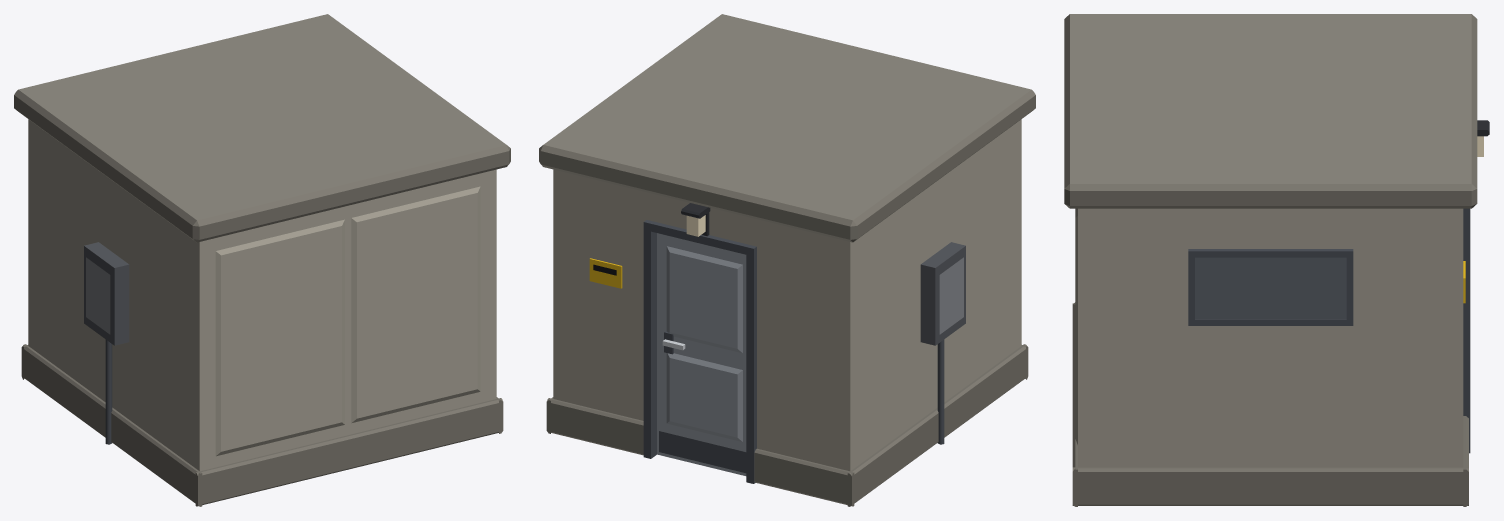
Rendered from roof_stairhut.glb.
3 views of the same model, side by side, from view 1: azimuth 30°, elevation 25°; view 2: azimuth 150°, elevation 25°; view 3: azimuth 270°, elevation 25° (orthographic). The views are drawn at different scales.
Parts seen in each view (by area): view 1: roof_stairhut__mesh; view 2: roof_stairhut__mesh; view 3: roof_stairhut__mesh.
Part boxes in pixels (x1,y1,x2,y2): roof_stairhut__mesh: (14,14,510,506); roof_stairhut__mesh: (539,14,1035,506); roof_stairhut__mesh: (1064,14,1489,506).
Bounding box in the file's own units: 3.05 × 2.6 × 3.09.
Materials: 1 (1 with a texture image).
